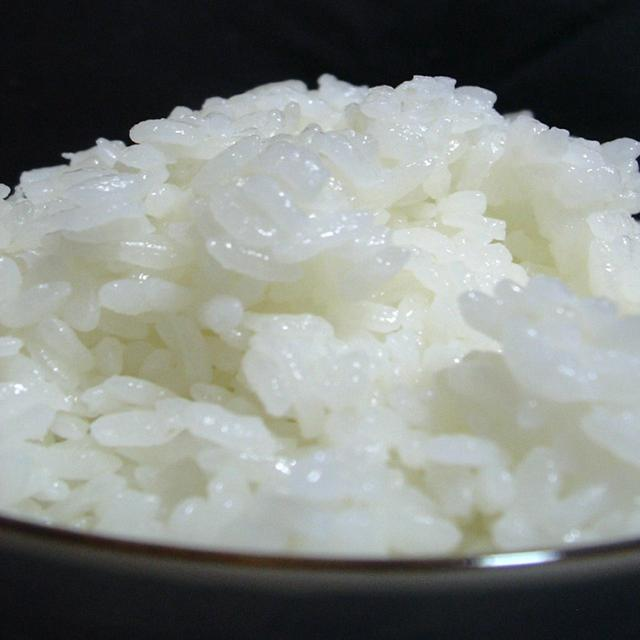米饭主食: (0, 33, 640, 630)
